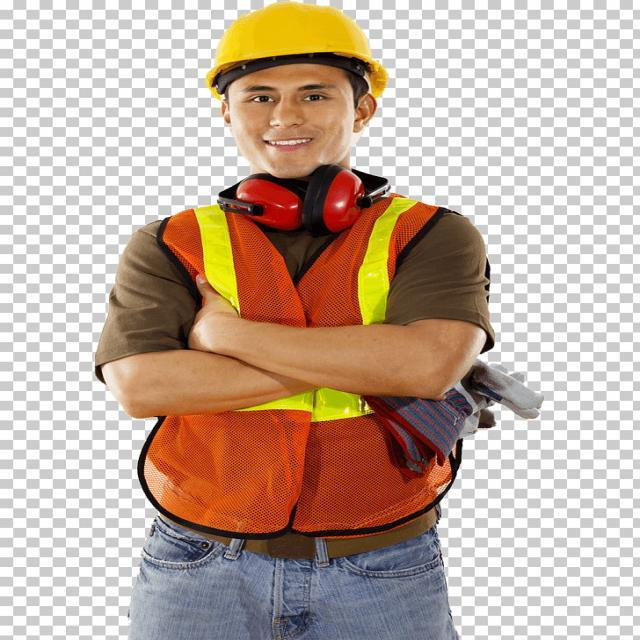reflective_jacket: (141, 193, 465, 532)
safety_helmet: (202, 0, 391, 90)
